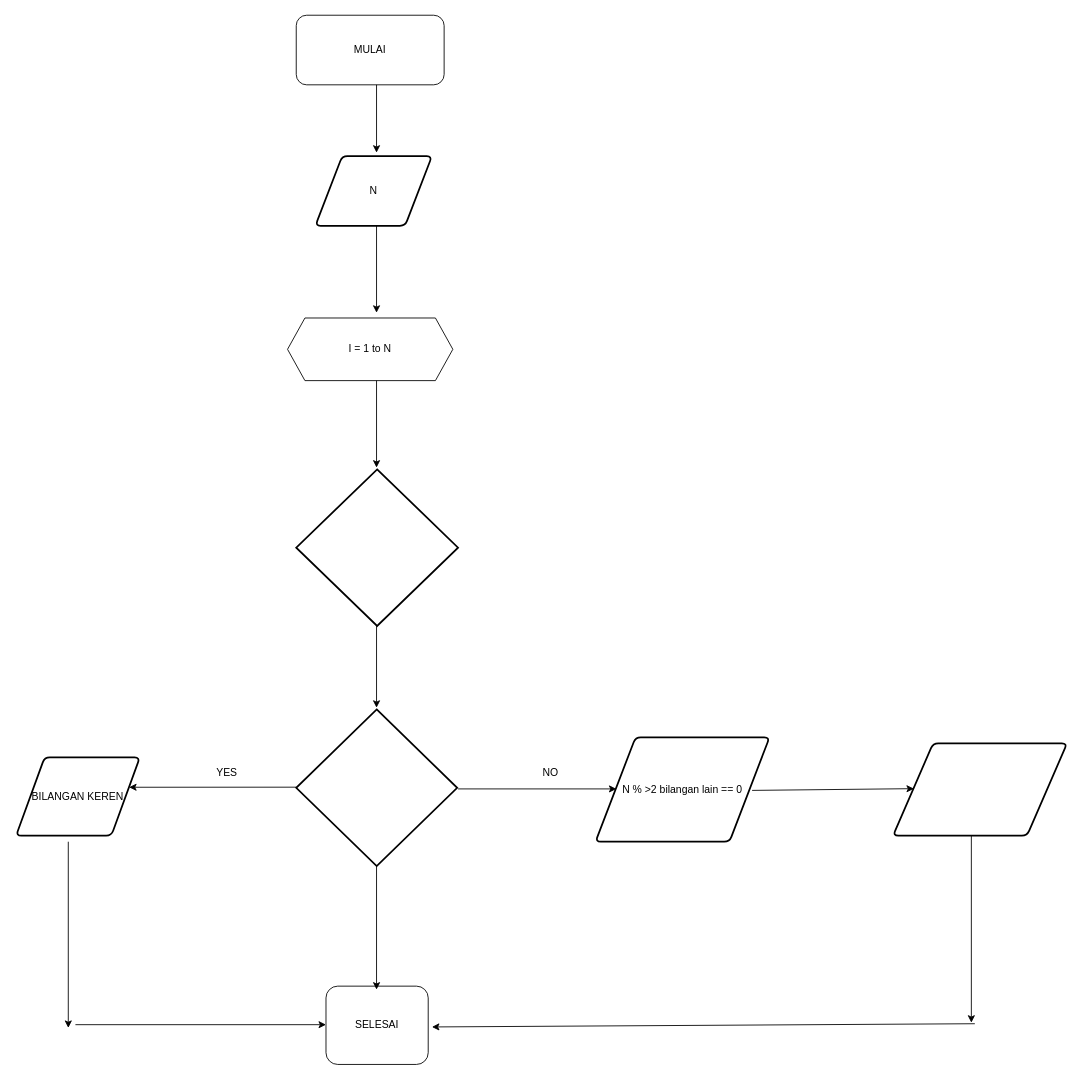
Image size: 1082x1080. Some labels were removed from this diagram. Each missing label, with the box of its shape:
BiILANGAN TIDAK KEREN: (892, 742, 1067, 836)
N % 1 == 0 N % N == 0: (295, 468, 458, 626)
N % 2 bilangan lain == 0: (295, 708, 458, 867)
